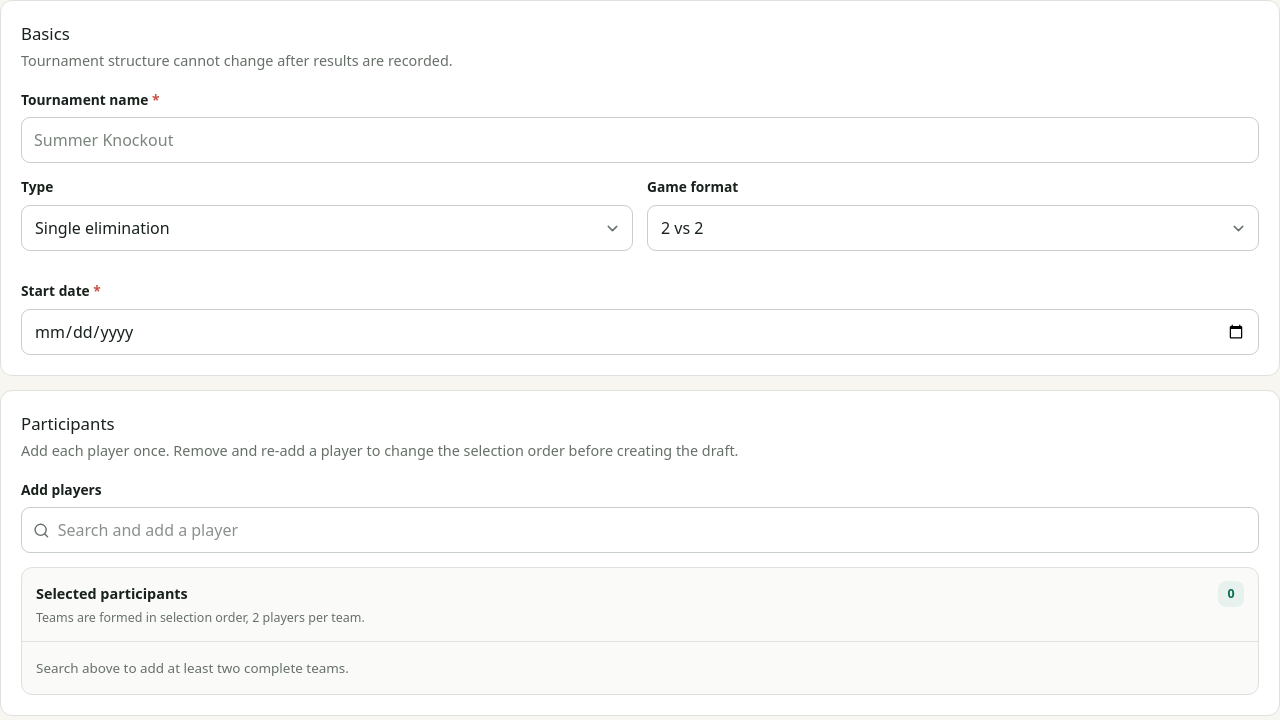
Test: TournamentFormatEntries › starts with a viable format and disables formats without two entries
This screenshot has width=1280, height=720.
Click the dropdown named "Game format". click: (682,228)
box: [647,205,1259,251]
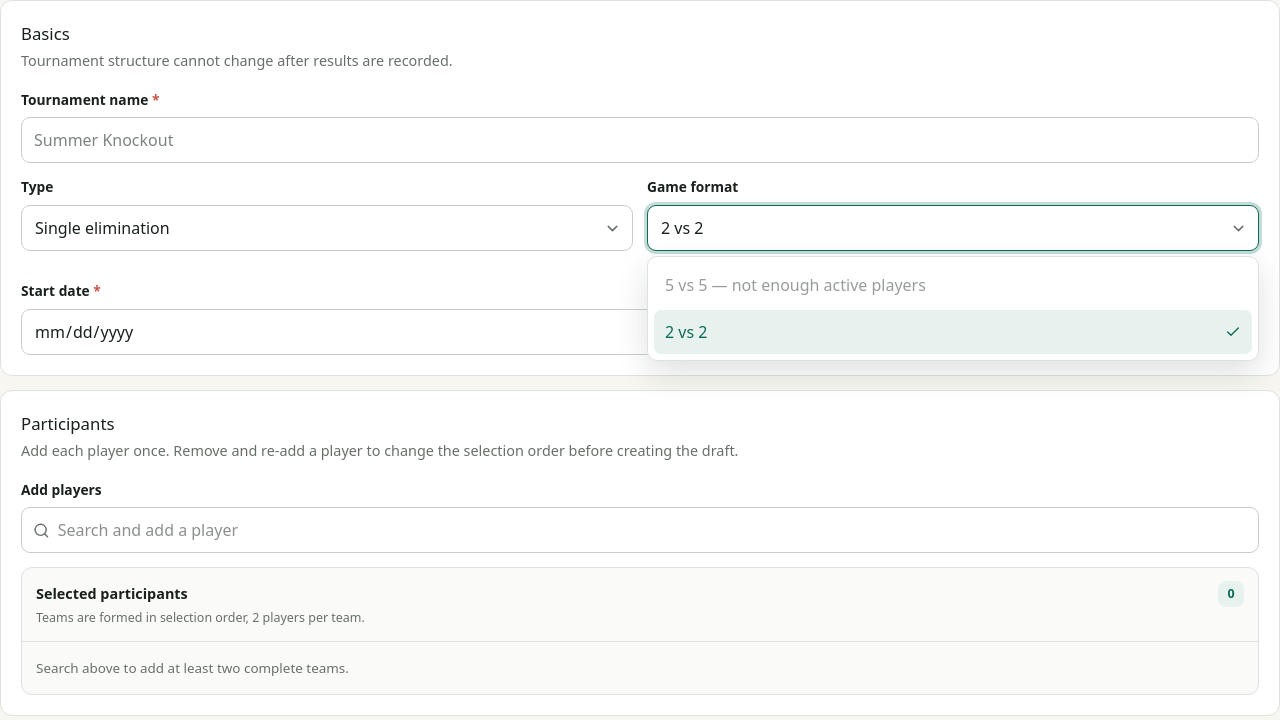
Expected: the dropdown labelled "Add players" is shown, [58,508,1247,552]
Now the option "5 vs 5 — not enough active players" is disabled, box [654,263,1252,307]
